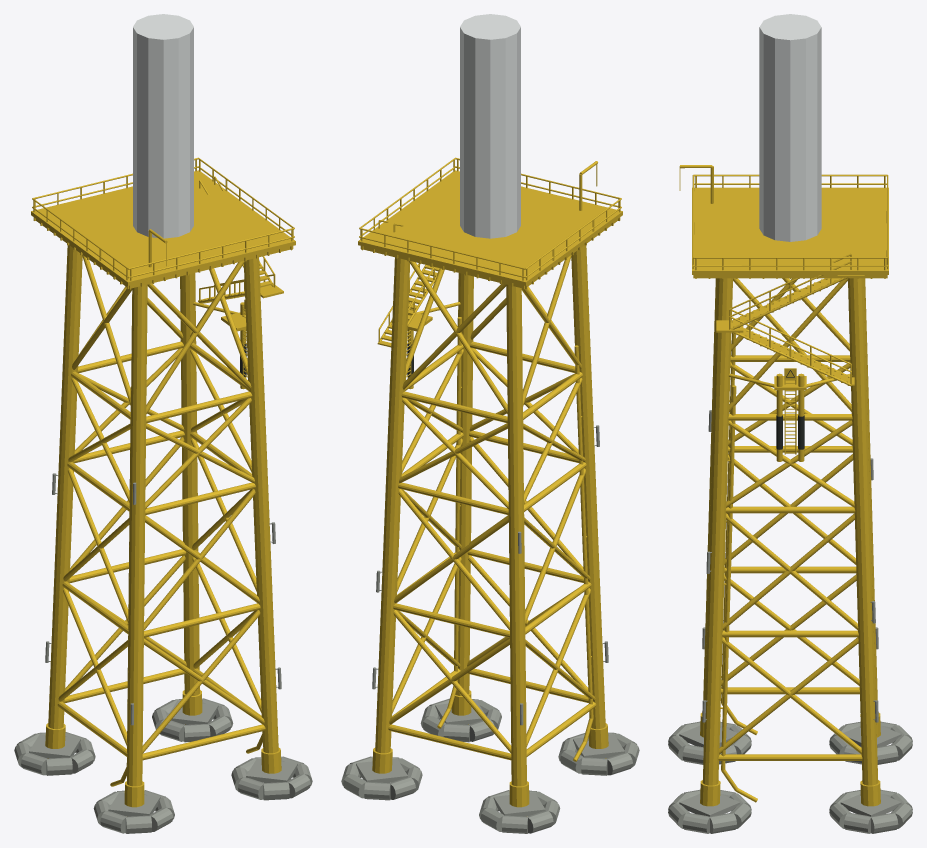
File: wind-jacket-low.glb
The picture shows the model from 3 angles, left to right: view 1: azimuth 30°, elevation 25°; view 2: azimuth 150°, elevation 25°; view 3: azimuth 270°, elevation 25°; orthographic projection.
Visible parts, largest first — view 1: J leg D armour 8; view 2: J leg D armour 8; view 3: J leg D armour 8.
Part boxes in pixels (x1,y1,x2,y2): J leg D armour 8: (14, 14, 312, 833); J leg D armour 8: (341, 14, 639, 833); J leg D armour 8: (668, 14, 912, 833).
Size of the model in its own units: 18.15 by 62.02 by 18.15.
